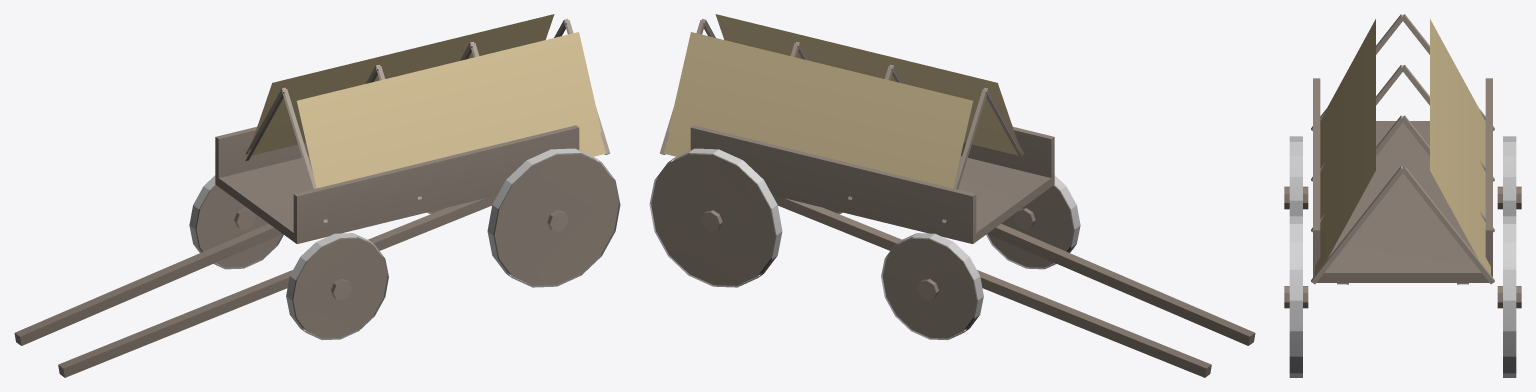
File: wagon_0.glb
3 views of the same model, side by side, from view 1: azimuth 30°, elevation 25°; view 2: azimuth 150°, elevation 25°; view 3: azimuth 270°, elevation 25° (orthographic). The views are drawn at different scales.
Visible parts, largest first — view 1: wagon_0; view 2: wagon_0; view 3: wagon_0.
Boxes of the visible parts, bbox=[...] form: wagon_0: bbox=[14, 14, 620, 377]; wagon_0: bbox=[649, 14, 1255, 377]; wagon_0: bbox=[1284, 14, 1521, 377].
Size of the model in its own units: 5.63 by 2.18 by 1.98.
